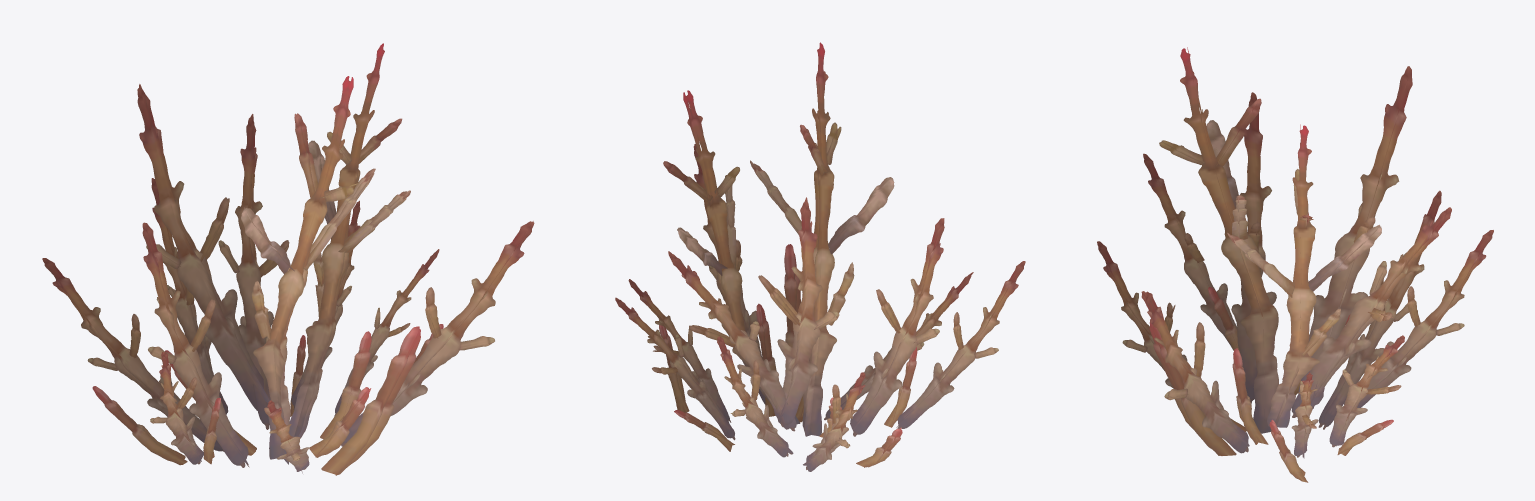
File: SM_Com_Veg_04AS.fbx
3 views of the same model, side by side, from view 1: azimuth 30°, elevation 25°; view 2: azimuth 150°, elevation 25°; view 3: azimuth 270°, elevation 25° (orthographic). The views are drawn at different scales.
Parts seen in each view (by area): view 1: SM_Com_Veg_04AS.mo; view 2: SM_Com_Veg_04AS.mo; view 3: SM_Com_Veg_04AS.mo.
Part boxes in pixels (bbox=[...]): SM_Com_Veg_04AS.mo: bbox=[42, 43, 534, 475]; SM_Com_Veg_04AS.mo: bbox=[615, 42, 1025, 471]; SM_Com_Veg_04AS.mo: bbox=[1097, 47, 1493, 482].
Bounding box in the file's own units: 0.6959 × 0.7368 × 0.652.
